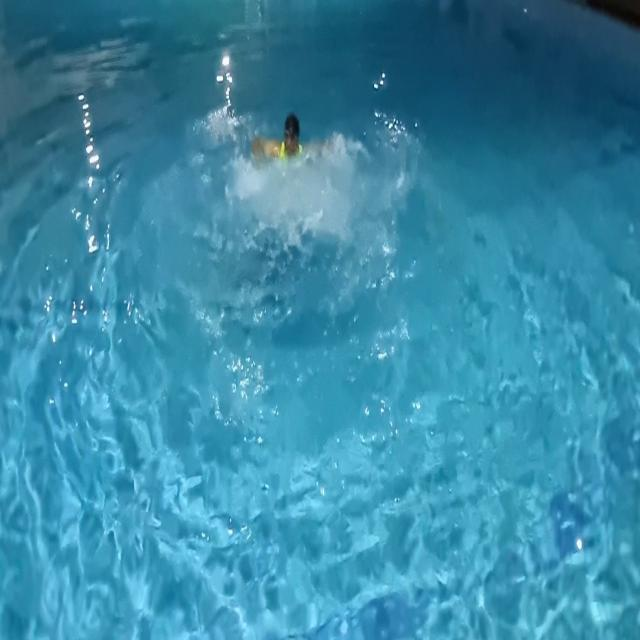Swimming: (224, 88, 375, 270)
